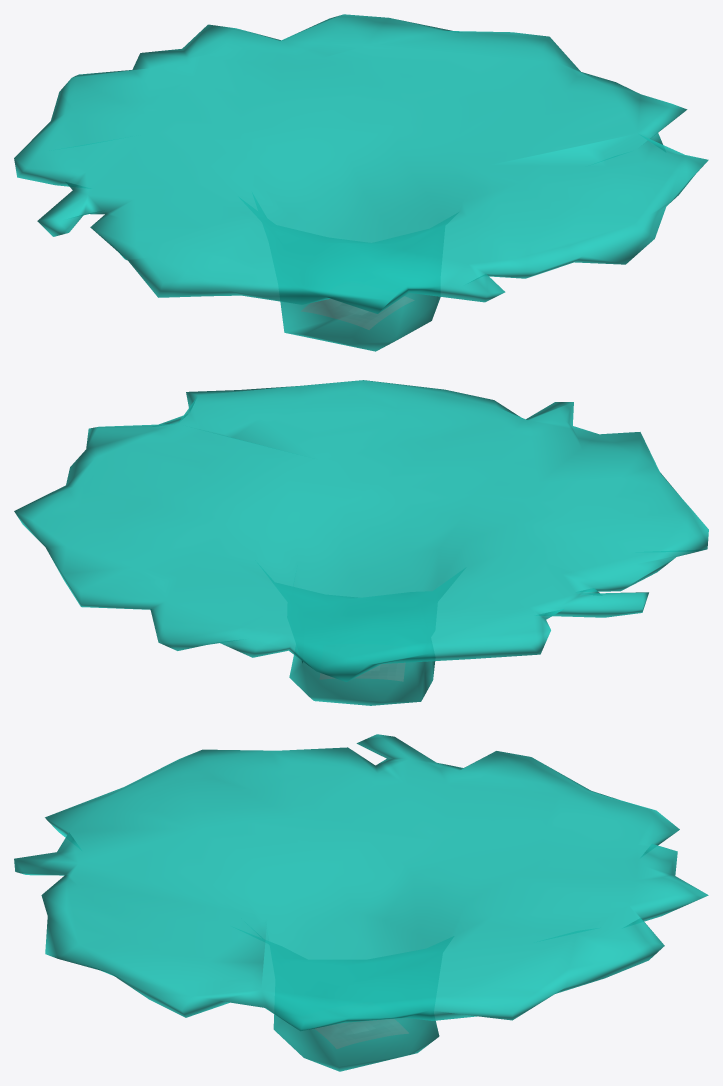
3 views of the same model, one above another, from view 1: azimuth 30°, elevation 25°; view 2: azimuth 150°, elevation 25°; view 3: azimuth 270°, elevation 25° (orthographic).
Visible parts, largest first — view 1: Liquid_Domain, グリッド; view 2: Liquid_Domain, グリッド; view 3: Liquid_Domain, グリッド.
Boxes of the visible parts, bbox=[...] form: Liquid_Domain: bbox=[14, 14, 708, 351]; グリッド: bbox=[301, 296, 413, 329]; Liquid_Domain: bbox=[14, 380, 708, 705]; グリッド: bbox=[320, 663, 405, 681]; Liquid_Domain: bbox=[14, 734, 708, 1071]; グリッド: bbox=[315, 1019, 408, 1048].
Bounding box in the file's own units: 191 × 51.31 × 191.
